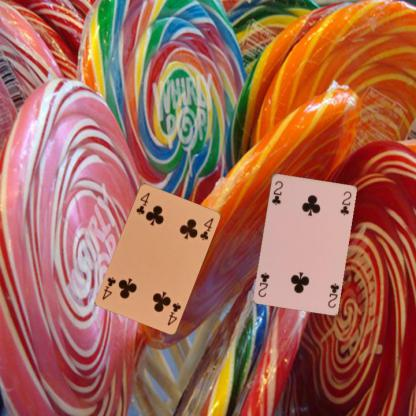2c: (326, 280, 340, 309), (270, 178, 284, 206)
4c: (133, 190, 151, 216), (165, 300, 182, 326)
